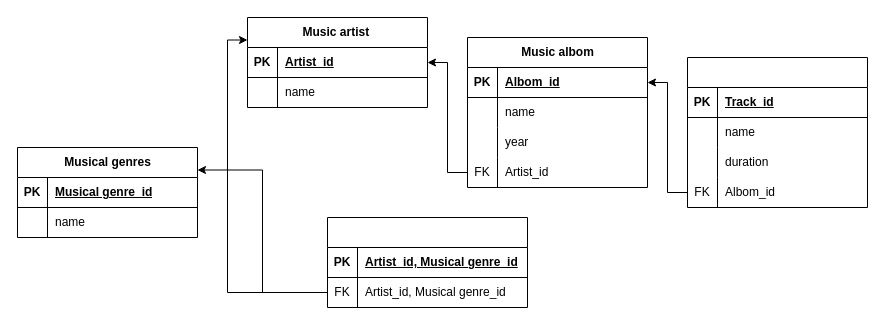
The diagram is 885 pixels wide and 325 high, and some of its shapes have lost their labels. Each missing label, with the box of its shape:
Artist genres: (326, 216, 528, 308)
Musical tracks: (686, 56, 868, 208)
